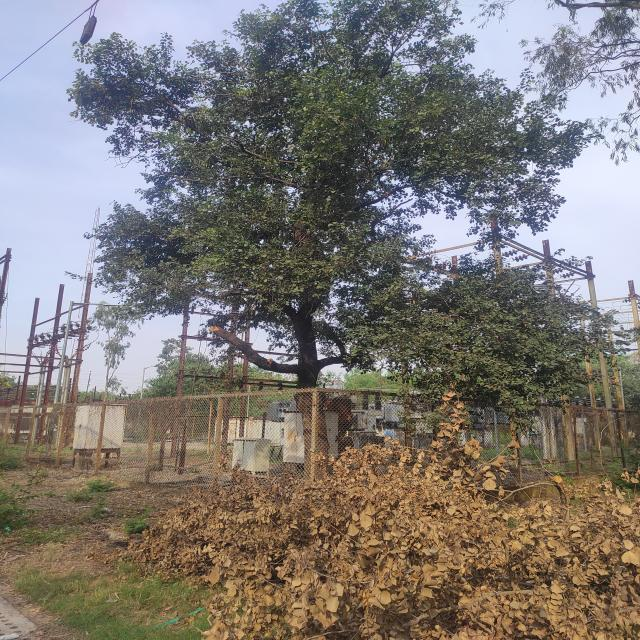Devakanchan tree: (139, 36, 506, 369)
